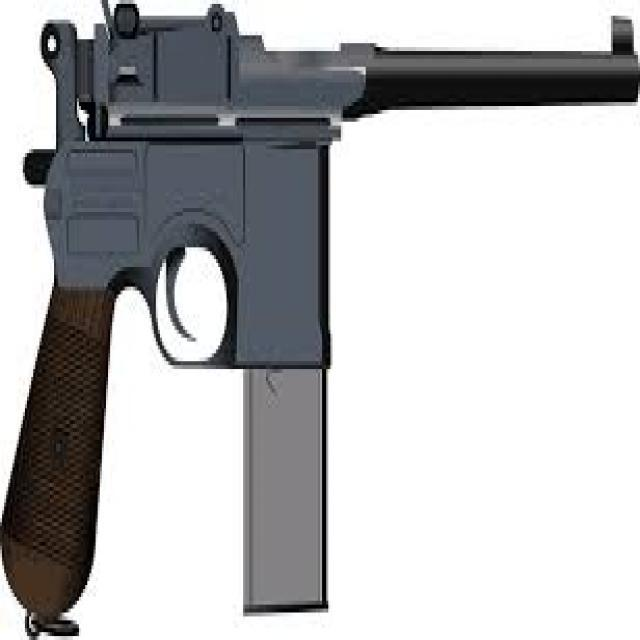semi automatic: (2, 3, 638, 631)
